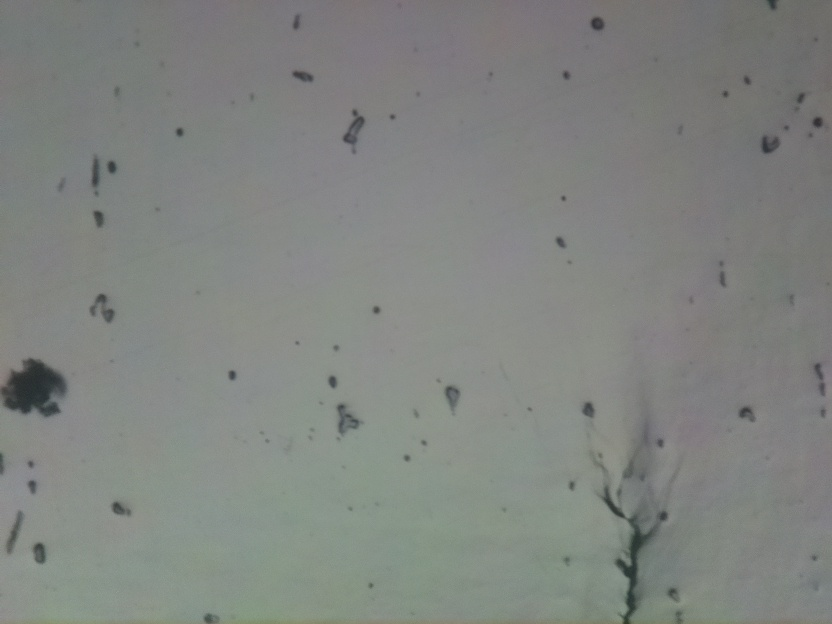crack: (596, 476, 672, 624)
